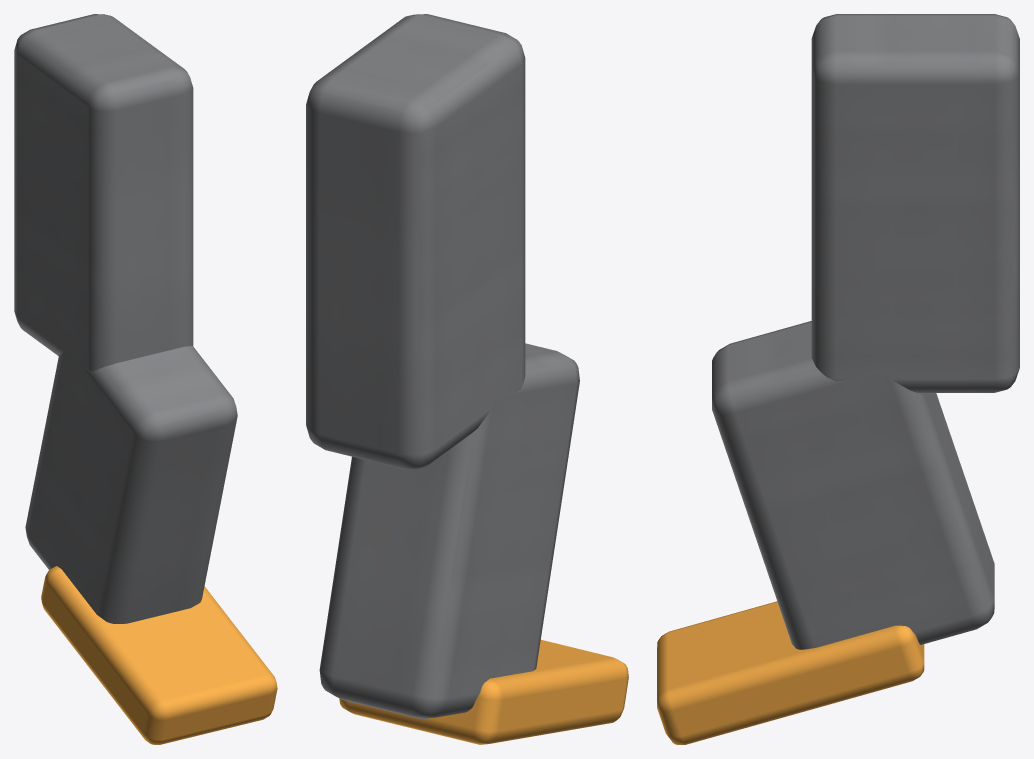
File: mag.gltf
The picture shows the model from 3 angles, left to right: view 1: azimuth 30°, elevation 25°; view 2: azimuth 150°, elevation 25°; view 3: azimuth 270°, elevation 25°; orthographic projection. The views are drawn at different scales.
Parts seen in each view (by area): view 1: mag; view 2: mag; view 3: mag.
Boxes of the visible parts, x1,y1,x2,y2 form: mag: [14, 14, 277, 744]; mag: [306, 14, 628, 744]; mag: [657, 14, 1019, 744].
Bounding box in the file's own units: 0.04 × 0.1806 × 0.0871.
2 materials, 1 textured.
